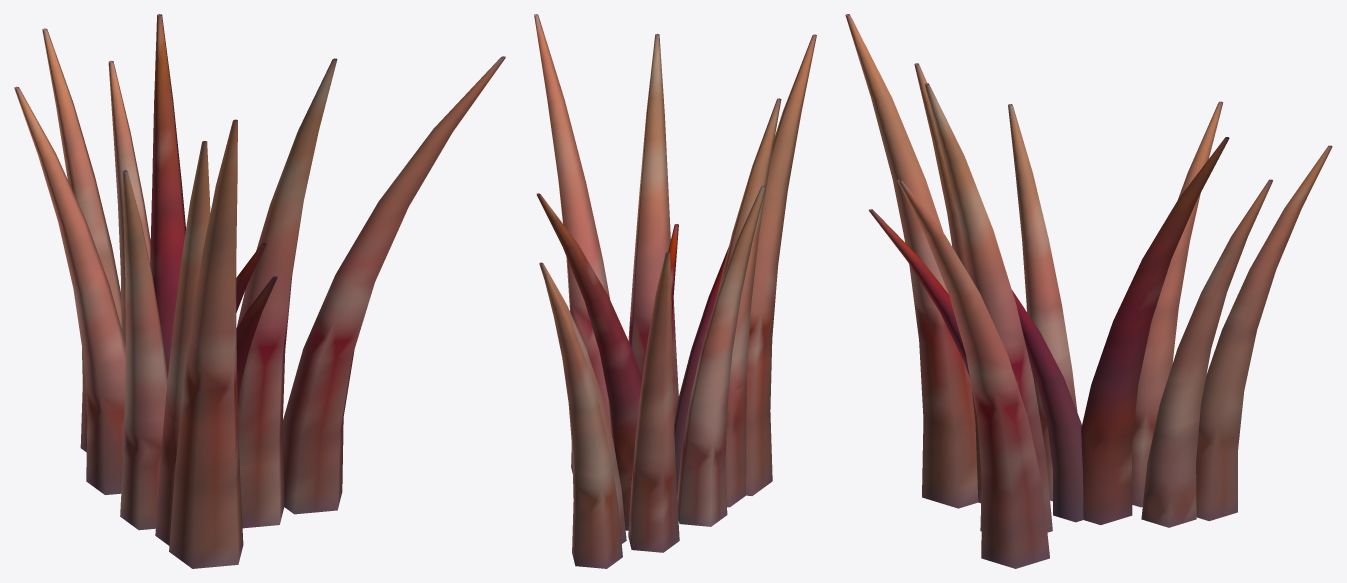
The model's file is kizil_filiz.glb.
The picture shows the model from 3 angles, left to right: view 1: azimuth 30°, elevation 25°; view 2: azimuth 150°, elevation 25°; view 3: azimuth 270°, elevation 25°; orthographic projection. The views are drawn at different scales.
Parts seen in each view (by area): view 1: kizil_filiz_LOD0; view 2: kizil_filiz_LOD0; view 3: kizil_filiz_LOD0.
Boxes of the visible parts, bbox=[...] form: kizil_filiz_LOD0: bbox=[14, 14, 505, 568]; kizil_filiz_LOD0: bbox=[534, 14, 816, 568]; kizil_filiz_LOD0: bbox=[845, 14, 1332, 568].
Size of what is drawn, in the model's own units: 1.39 by 1.97 by 1.88.
